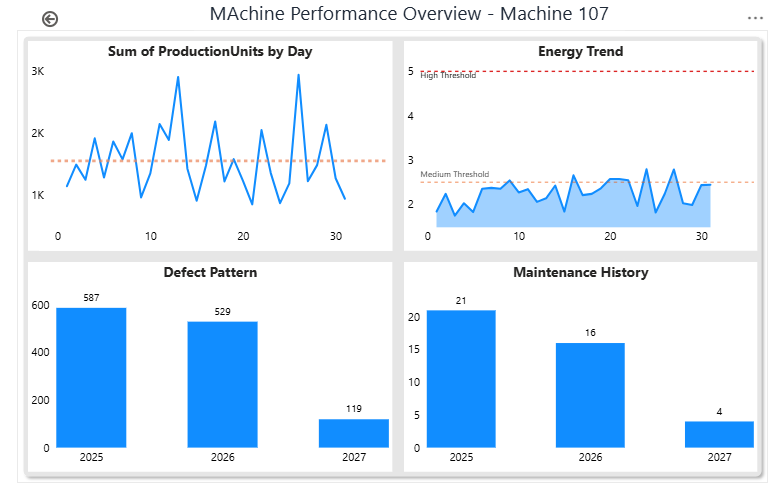

The page's visual inventory and layout, read from the dashboard file:
{"tool":"powerbi","page":{"name":"Machine Deep-Dive Analysis","canvas":[1280,720],"ordinal":4},"visuals":[{"type":"actionButton","box":[0,0,64,48],"z":0},{"type":"shape","box":[48,48,1088,656],"z":1000},{"type":"lineChart","fields":{"Category":["HOM.Timestamp.Variation.Date Hierarchy.Day"],"Y":["Sum(HOM.ProductionUnits)"]},"box":[80,64,512,304],"z":2000},{"type":"areaChart","title":"Energy Trend ","fields":{"Category":["HOM.Timestamp.Variation.Date Hierarchy.Day"],"Y":["Avg(HOM.Energy_Per_Unit)"]},"box":[608,64,512,304],"z":3000},{"type":"clusteredColumnChart","title":"Defect Pattern ","fields":{"Category":["HOM.Timestamp.Variation.Date Hierarchy.Year","HOM.Timestamp.Variation.Date Hierarchy.Quarter","HOM.Timestamp.Variation.Date Hierarchy.Month","HOM.Timestamp.Variation.Date Hierarchy.Day"],"Y":["Sum(HOM.DefectCount)"]},"box":[80,384,512,304],"z":4000},{"type":"clusteredColumnChart","title":" Maintenance History ","fields":{"Category":["HOM.Timestamp.Variation.Date Hierarchy.Year","HOM.Timestamp.Variation.Date Hierarchy.Quarter","HOM.Timestamp.Variation.Date Hierarchy.Month","HOM.Timestamp.Variation.Date Hierarchy.Day"],"Y":["Sum(HOM.MaintenanceFlag)"]},"box":[608,384,512,304],"z":5000},{"type":"lineChart","fields":{"Category":["HOM.Timestamp.Variation.Date Hierarchy.Day"],"Y":["Sum(HOM.ProductionUnits)"]},"box":[80,64,512,304],"z":6000},{"type":"card","fields":{"Values":["HOM.Machine Title"]},"box":[304,0,624,48],"z":7000}]}

Visuals, with their boxes on the page's 1280x720 design canvas (x1, y1, x2, y2). These are canvas units, not pixel positions in the 782x484 screenshot, which may show the page scaled, cropped or inside an application window:
actionButton: Rect(0, 0, 64, 48)
shape: Rect(48, 48, 1136, 704)
lineChart - HOM.Timestamp.Variation.Date Hierarchy.Day x Sum(HOM.ProductionUnits): Rect(80, 64, 592, 368)
"Energy Trend " areaChart: Rect(608, 64, 1120, 368)
"Defect Pattern " clusteredColumnChart: Rect(80, 384, 592, 688)
" Maintenance History " clusteredColumnChart: Rect(608, 384, 1120, 688)
lineChart - HOM.Timestamp.Variation.Date Hierarchy.Day x Sum(HOM.ProductionUnits): Rect(80, 64, 592, 368)
card - HOM.Machine Title: Rect(304, 0, 928, 48)
